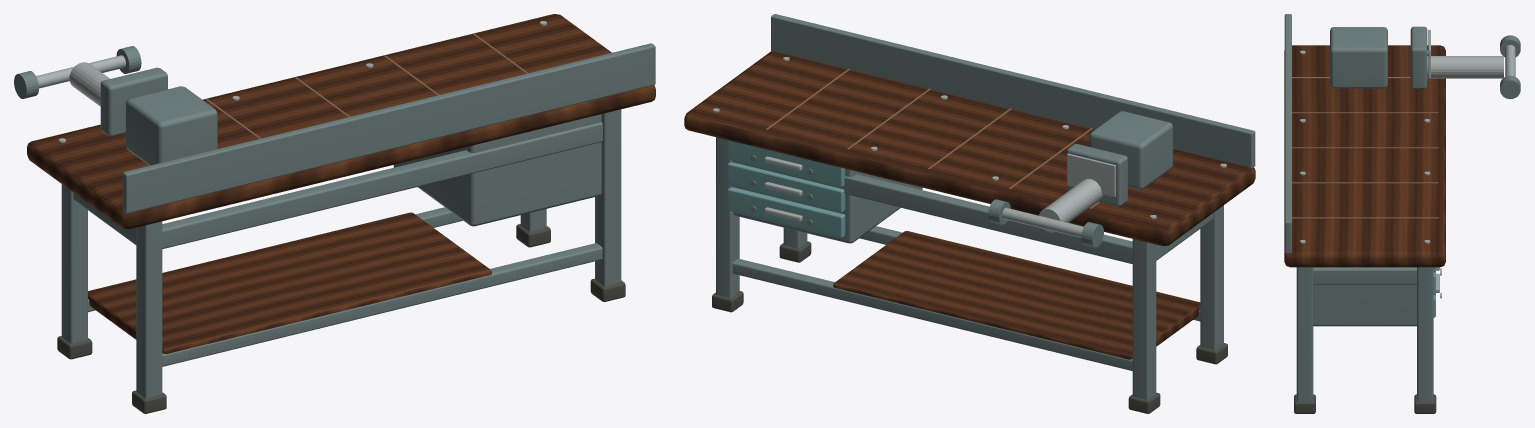
File: A125_mechanic_workbench.glb
3 views of the same model, side by side, from view 1: azimuth 30°, elevation 25°; view 2: azimuth 150°, elevation 25°; view 3: azimuth 270°, elevation 25° (orthographic). The views are drawn at different scales.
Parts seen in each view (by area): view 1: Hardwood worktop, Lower storage shelf, Back retaining lip, Length rail -0.29, Drawer bank shell, Lower length rail -0.29, Vise fixed jaw, Frame leg -1.03 -0.29, Frame leg +1.03 -0.29, Frame leg -1.03 +0.29, Vise moving jaw, Vise lead screw (+7 smaller); view 2: Hardwood worktop, Lower storage shelf, Back retaining lip, Length rail +0.29, Lower length rail +0.29, Vise fixed jaw, Frame leg -1.03 +0.29, Frame leg -1.03 -0.29, Frame leg +1.03 +0.29, Pull drawer 03, Pull drawer 02, Drawer bank shell (+5 smaller); view 3: Hardwood worktop, Drawer bank shell, Vise fixed jaw, Frame leg +1.03 -0.29, Frame leg +1.03 +0.29, Back retaining lip, End rail +1.03, Vise lead screw, Vise moving jaw, Vise handle knob 1, Rubber foot +1.03 +0.29, Vise handle crossbar (+6 smaller).
Part boxes in pixels (x1,y1,x2,y2): Hardwood worktop: (27, 14, 655, 229); Lower storage shelf: (88, 212, 491, 353); Back retaining lip: (122, 43, 655, 213); Length rail -0.29: (162, 122, 602, 248); Drawer bank shell: (393, 114, 601, 226); Lower length rail -0.29: (162, 243, 602, 366); Vise fixed jaw: (125, 86, 217, 165); Frame leg -1.03 -0.29: (136, 221, 162, 398); Frame leg +1.03 -0.29: (595, 109, 621, 286); Frame leg -1.03 +0.29: (61, 184, 87, 343); Vise moving jaw: (100, 67, 167, 136); Vise lead screw: (69, 62, 109, 106); Hardwood worktop: (684, 51, 1255, 246); Lower storage shelf: (833, 231, 1200, 359); Back retaining lip: (771, 14, 1255, 168); Length rail +0.29: (732, 161, 1132, 263); Lower length rail +0.29: (732, 258, 1132, 370); Vise fixed jaw: (1089, 111, 1172, 189); Frame leg -1.03 +0.29: (1132, 239, 1156, 399); Frame leg -1.03 -0.29: (1200, 205, 1223, 349); Frame leg +1.03 +0.29: (716, 137, 739, 297); Pull drawer 03: (727, 187, 845, 237); Pull drawer 02: (727, 162, 845, 212); Drawer bank shell: (733, 169, 922, 243); Hardwood worktop: (1284, 45, 1445, 267); Drawer bank shell: (1313, 284, 1416, 326); Vise fixed jaw: (1330, 27, 1387, 88); Frame leg +1.03 -0.29: (1296, 267, 1313, 401); Frame leg +1.03 +0.29: (1417, 267, 1433, 401); Back retaining lip: (1284, 14, 1291, 253); End rail +1.03: (1313, 267, 1416, 284); Vise lead screw: (1427, 56, 1503, 78); Vise moving jaw: (1410, 26, 1427, 88); Vise handle knob 1: (1500, 75, 1520, 99); Rubber foot +1.03 +0.29: (1414, 394, 1436, 413); Vise handle crossbar: (1505, 44, 1515, 76).
Bounding box in the file's own units: 2.4 × 1.14 × 1.14.
6 materials, 1 textured.
